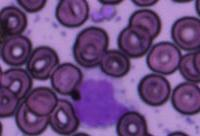M: (73, 72, 131, 130)
